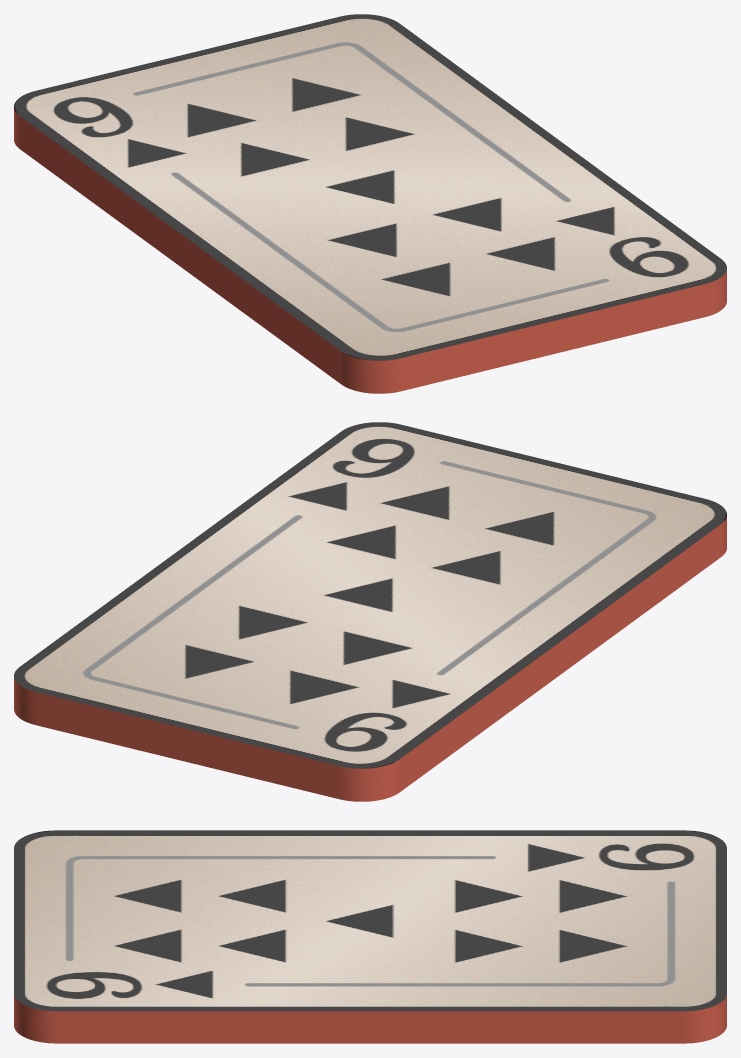
Rendered from Card.fbx.
3 renders of one model, top to bottom at view 1: azimuth 30°, elevation 25°; view 2: azimuth 150°, elevation 25°; view 3: azimuth 270°, elevation 25°, orthographic. The views are drawn at different scales.
Parts seen in each view (by area): view 1: Extrude; view 2: Extrude; view 3: Extrude.
Part boxes in pixels (x1,y1,x2,y2): Extrude: [14, 14, 726, 393]; Extrude: [14, 422, 726, 801]; Extrude: [14, 830, 726, 1043].
Size of the model in its own units: 60 by 5 by 100.
Materials: 2 (2 with a texture image).
